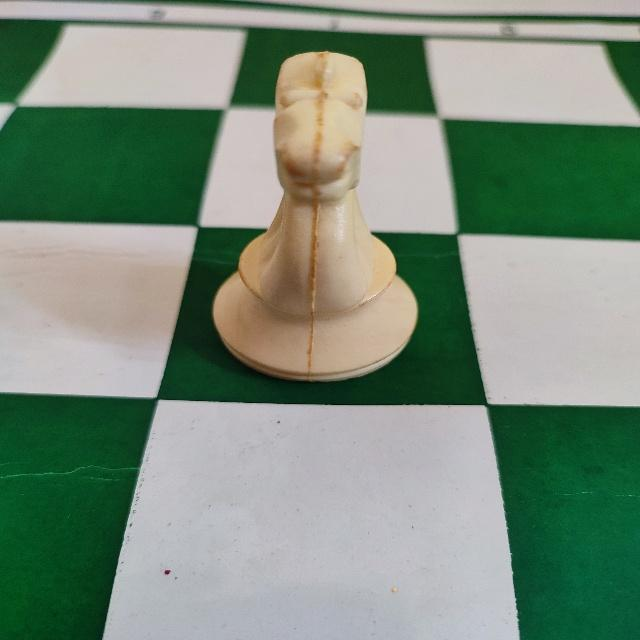Knight: (199, 45, 425, 388)
